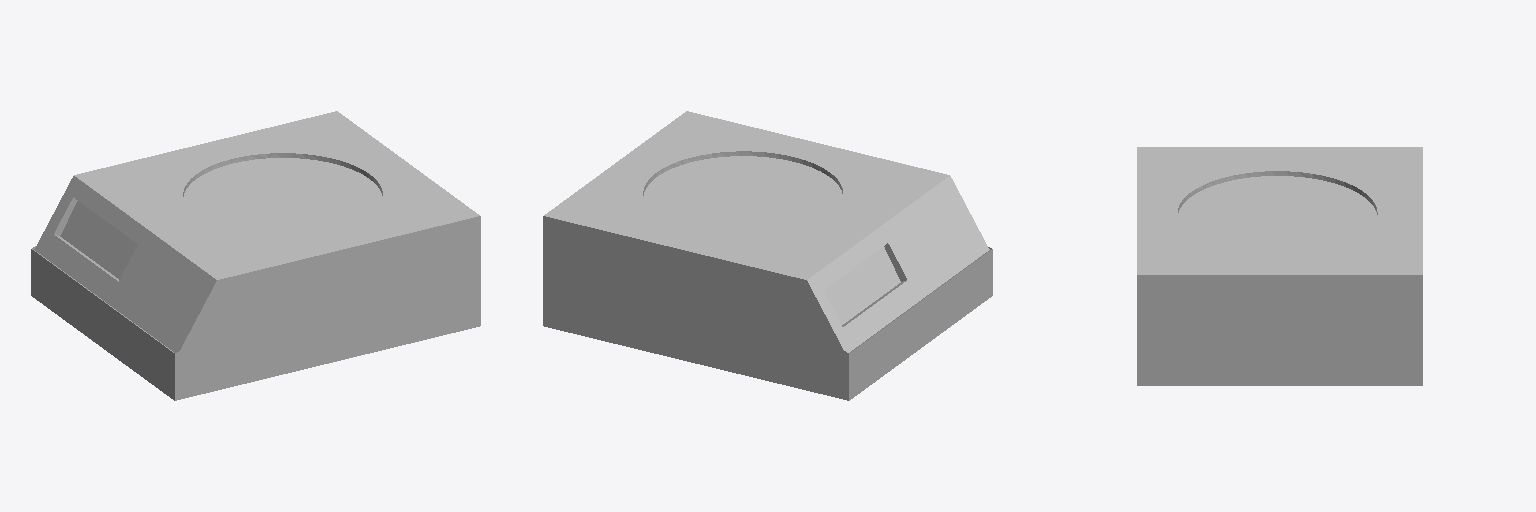
Rendered from Weight Scale.obj.
The picture shows the model from 3 angles: view 1: azimuth 30°, elevation 25°; view 2: azimuth 150°, elevation 25°; view 3: azimuth 270°, elevation 25°; orthographic projection.
Bounding box in the file's own units: 12.51 × 4.32 × 10.16.